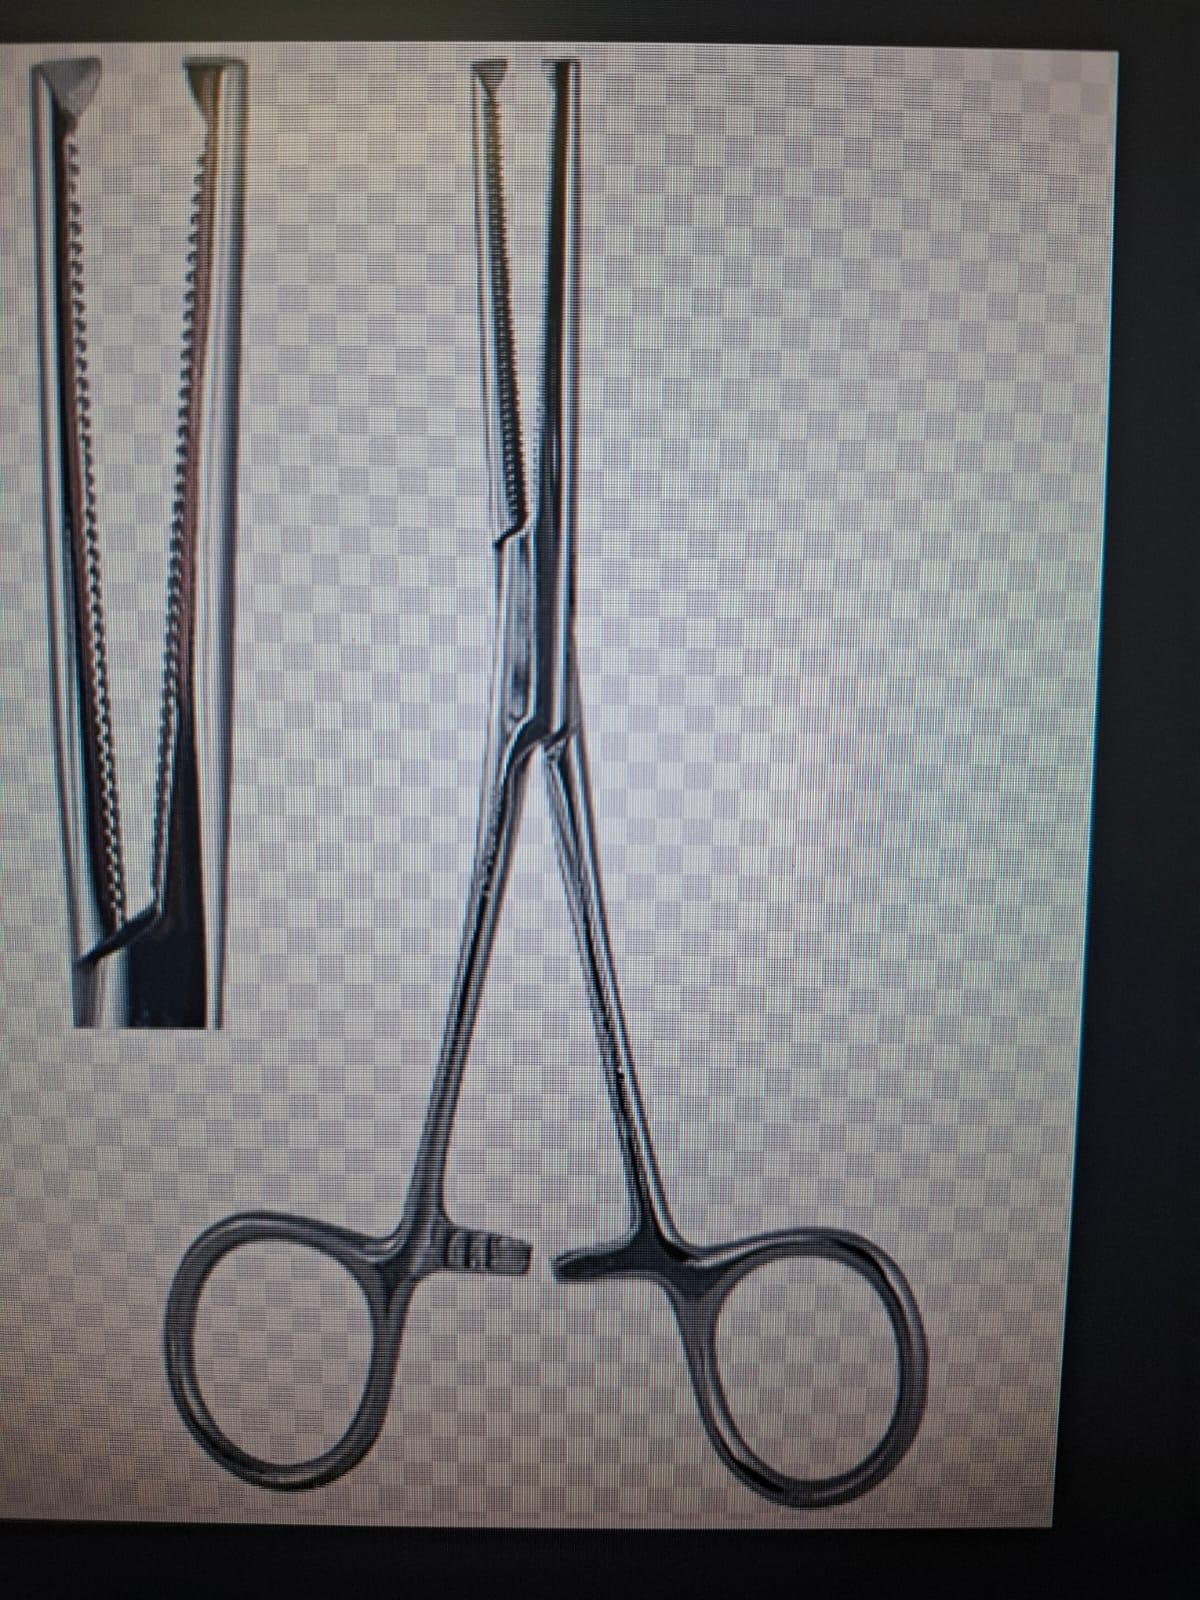Kocher Forceps: (168, 48, 957, 1518)
